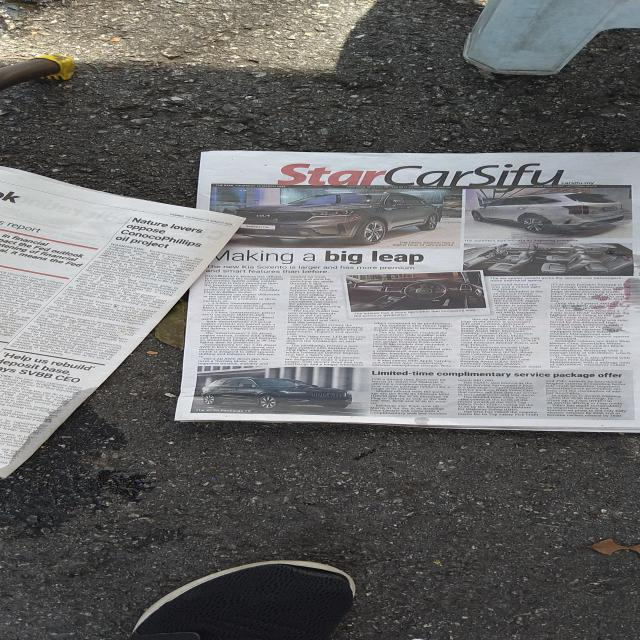newspaper: (195, 149, 640, 429), (0, 161, 239, 485)
